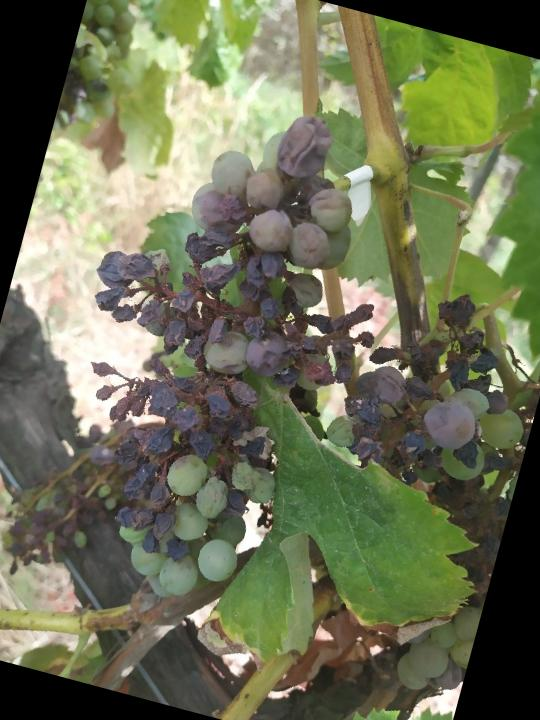grape: (16, 64, 386, 627), (275, 269, 540, 701)
